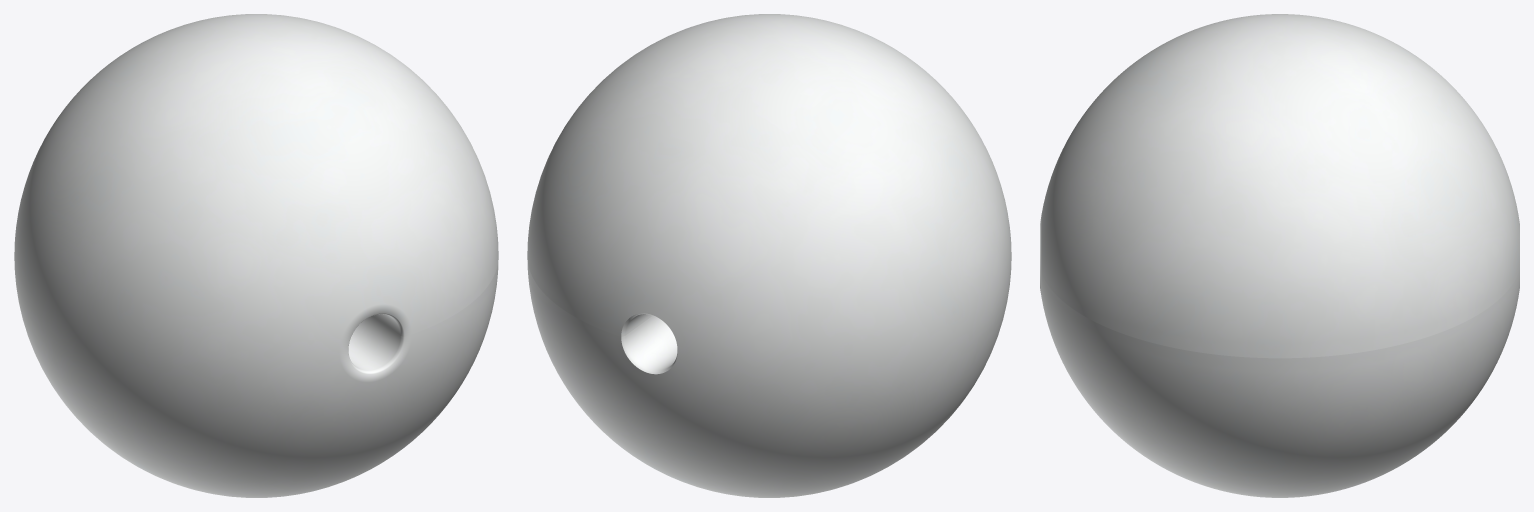
The model's file is clear-quartz.glb.
3 views of the same model, side by side, from view 1: azimuth 30°, elevation 25°; view 2: azimuth 150°, elevation 25°; view 3: azimuth 270°, elevation 25° (orthographic).
Parts seen in each view (by area): view 1: clear-quartz.001; view 2: clear-quartz.001; view 3: clear-quartz.001.
Part boxes in pixels (box(x1,y1,x2,y2)): clear-quartz.001: box(14, 14, 498, 497); clear-quartz.001: box(527, 14, 1011, 497); clear-quartz.001: box(1040, 14, 1519, 497).
Size of the model in its own units: 0.008 by 0.008 by 0.00793.
2 materials, 1 textured.
